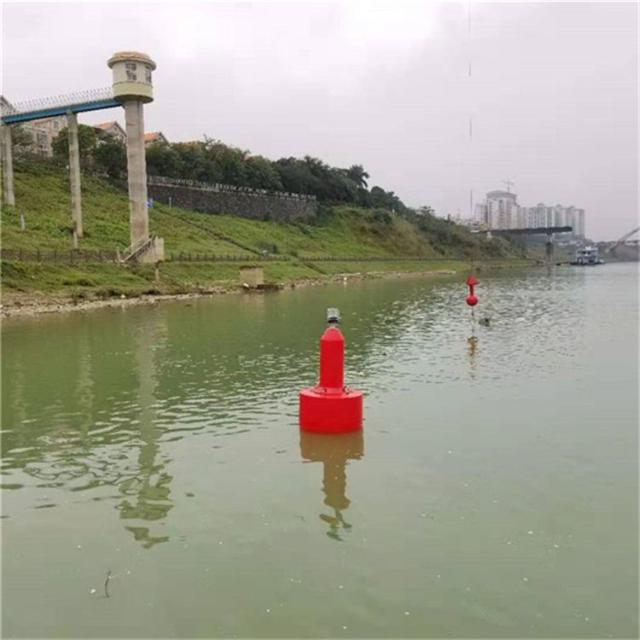buoy: (292, 306, 368, 436)
